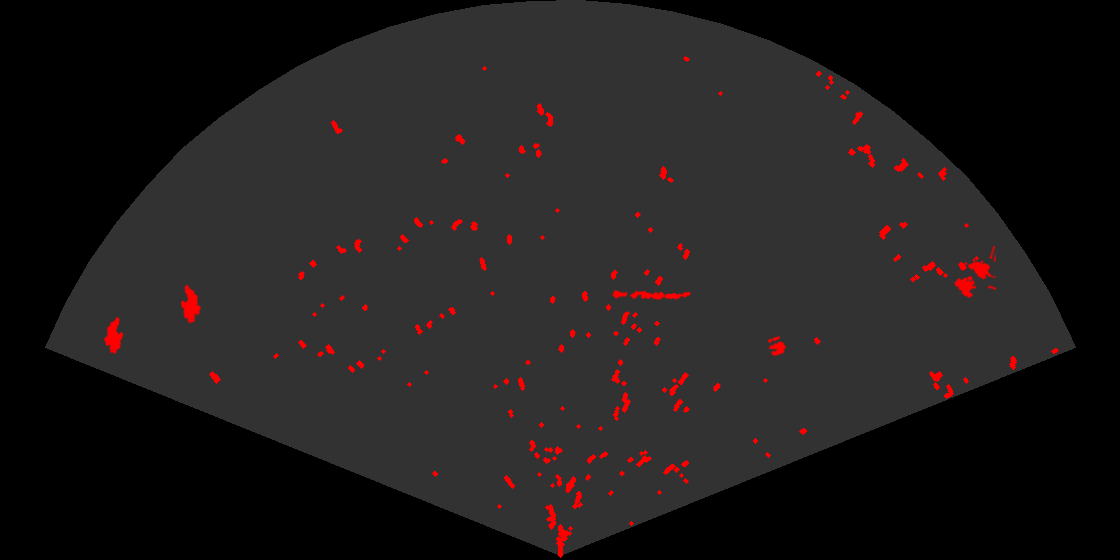AUV: (179, 283, 203, 325), (102, 315, 125, 356)
ball: (766, 334, 788, 358)
cage: (953, 246, 996, 300)
chain: (611, 289, 692, 302)
